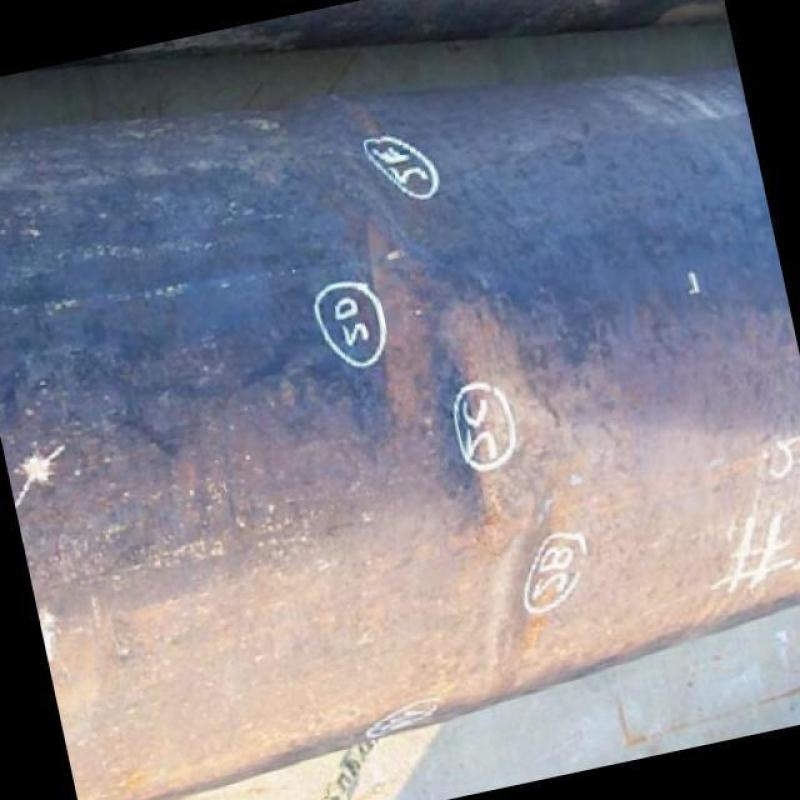Dent: (428, 290, 497, 505)
